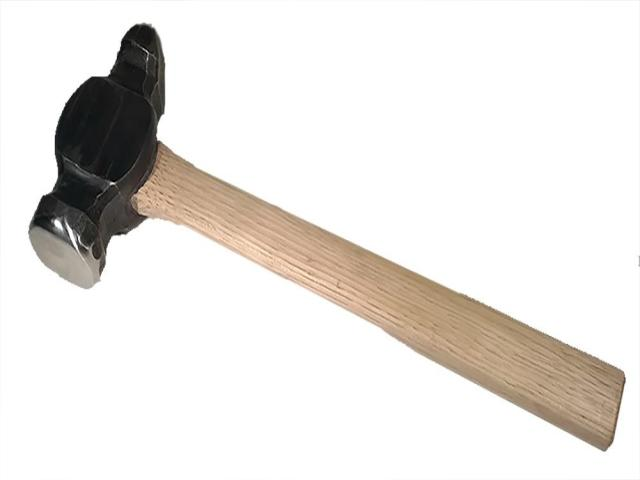hammer: (27, 22, 627, 450)
